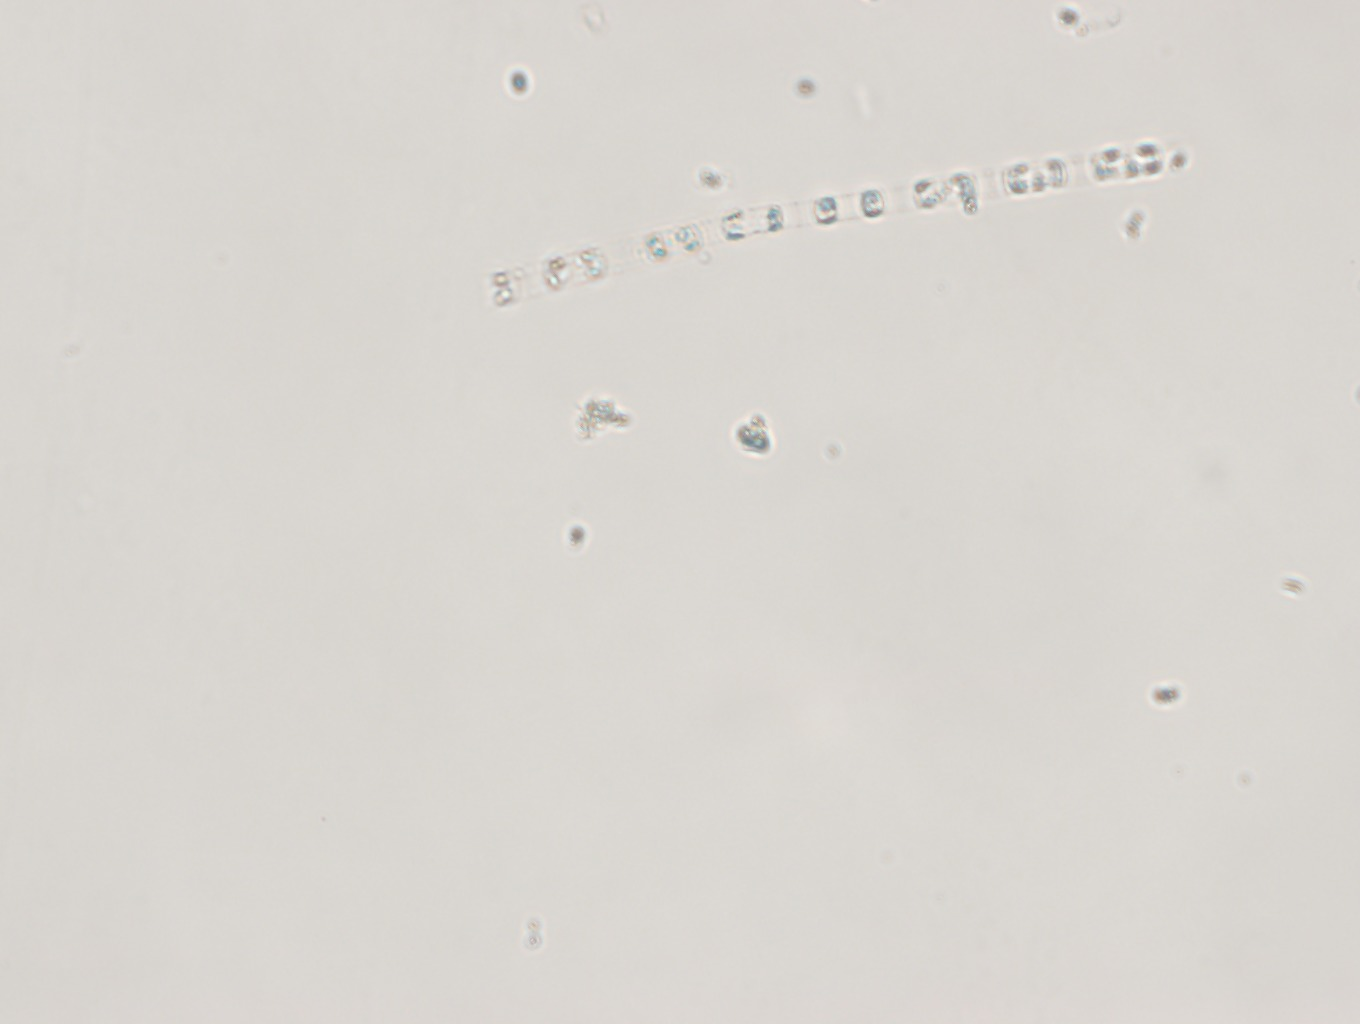skeletonema: (474, 136, 1217, 315)
